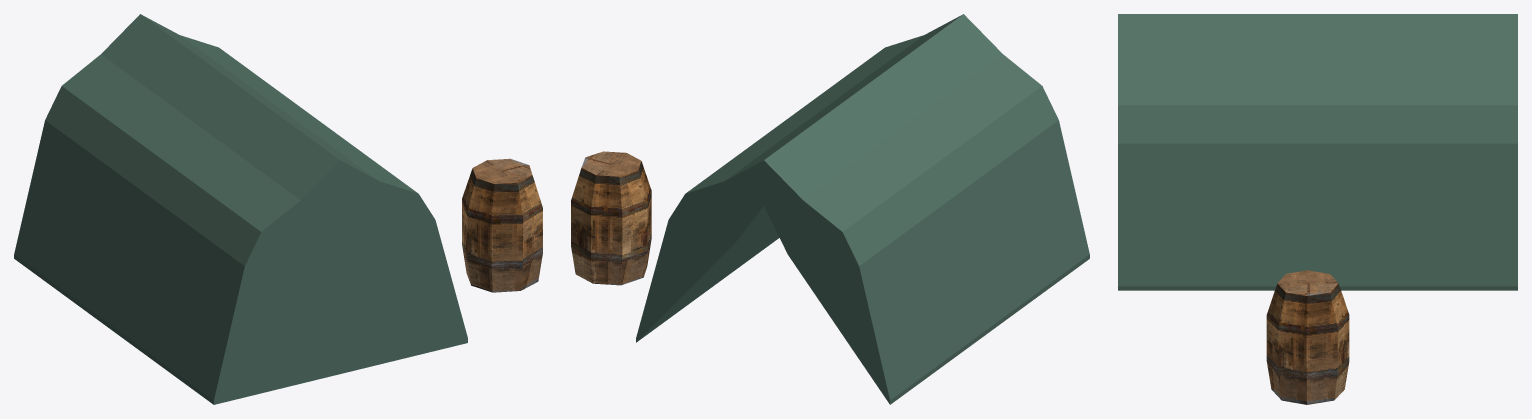
Rendered from tent.glb.
3 views of the same model, side by side, from view 1: azimuth 30°, elevation 25°; view 2: azimuth 150°, elevation 25°; view 3: azimuth 270°, elevation 25° (orthographic).
Parts seen in each view (by area): view 1: tent, barrel; view 2: tent, barrel; view 3: tent, barrel.
Part boxes in pixels (x1,y1,x2,y2): tent: (14,14,467,404); barrel: (462,158,542,292); tent: (636,14,1089,404); barrel: (571,151,651,285); tent: (1118,14,1517,290); barrel: (1266,270,1349,404).
Size of the model in its own units: 9.76 by 5.55 by 8.05.
4 materials, 2 textured.
